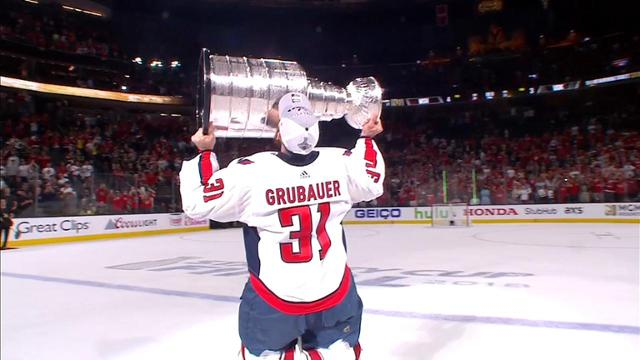geico: (353, 204, 404, 222)
